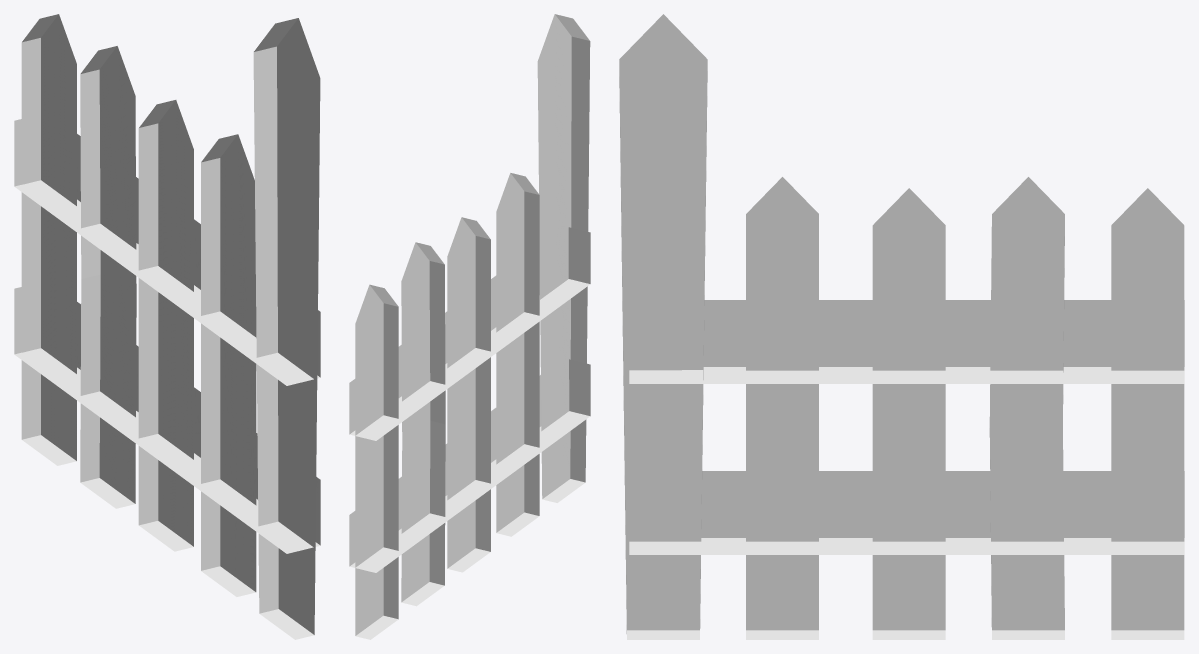
Rendered from dfb8a993-b891-451d-a889-3096c5fe3470.glb.
3 views of the same model, side by side, from view 1: azimuth 30°, elevation 25°; view 2: azimuth 150°, elevation 25°; view 3: azimuth 270°, elevation 25° (orthographic). The views are drawn at different scales.
Visible parts, largest first — view 1: wooden_fence_pattern_Cube.036; view 2: wooden_fence_pattern_Cube.036; view 3: wooden_fence_pattern_Cube.036.
Boxes of the visible parts, x1,y1,x2,y2 form: wooden_fence_pattern_Cube.036: (14, 14, 320, 639); wooden_fence_pattern_Cube.036: (349, 14, 590, 639); wooden_fence_pattern_Cube.036: (619, 14, 1184, 639).
Bounding box in the file's own units: 0.1745 × 2.96 × 2.47.
1 material, 1 textured.
